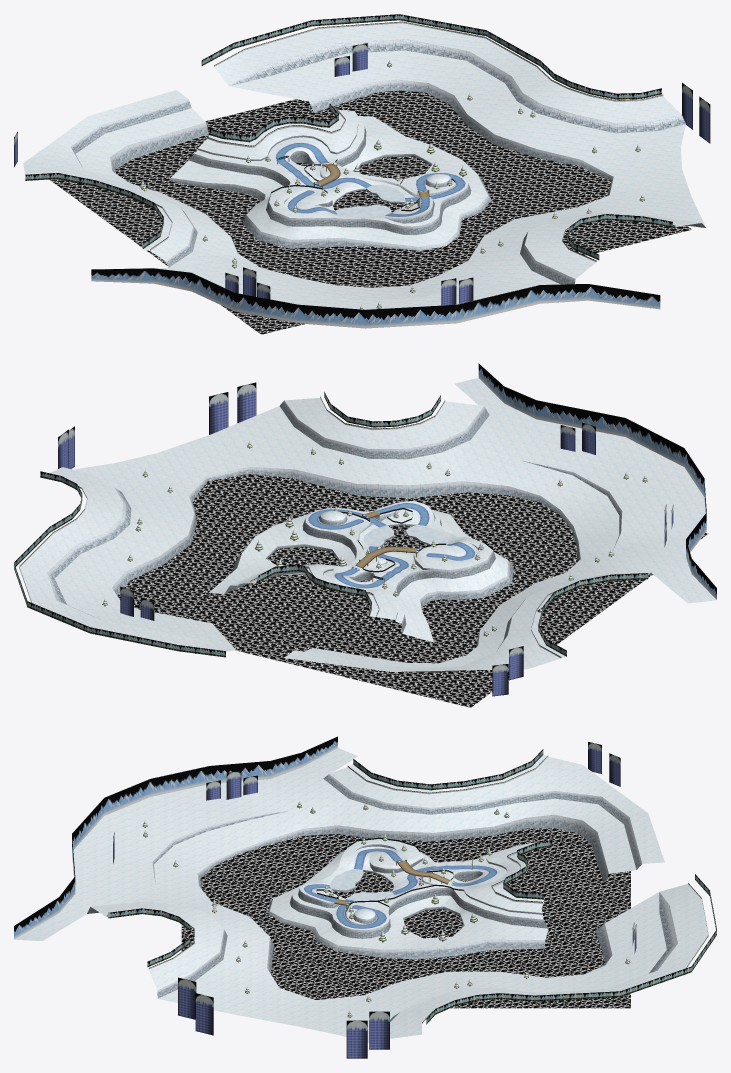
The picture shows the model from 3 angles, top to bottom: view 1: azimuth 30°, elevation 25°; view 2: azimuth 150°, elevation 25°; view 3: azimuth 270°, elevation 25°; orthographic projection. The views are drawn at different scales.
Visible parts, largest first — view 1: Snow.002, Water.011, Wall.005, Mountains.001, Trees.001, Hills.001, Road.015, Bushes.001, Tree.019, Ice.002; view 2: Snow.002, Water.011, Wall.005, Mountains.001, Trees.001, Hills.001, Road.015, Tree.019, Ice.002, Bushes.001, Bridge.006; view 3: Snow.002, Water.011, Wall.005, Mountains.001, Hills.001, Trees.001, Road.015, Tree.019, Bushes.001, Ice.002.
Boxes of the visible parts, x1,y1,x2,y2 form: Snow.002: (23, 23, 705, 309); Water.011: (49, 90, 691, 334); Wall.005: (71, 39, 705, 284); Mountains.001: (91, 268, 660, 328); Trees.001: (25, 14, 672, 260); Hills.001: (14, 43, 710, 305); Road.015: (275, 142, 465, 216); Bushes.001: (150, 21, 675, 261); Tree.019: (139, 60, 644, 309); Ice.002: (335, 185, 405, 217); Snow.002: (19, 377, 716, 671); Water.011: (117, 473, 708, 707); Wall.005: (47, 400, 653, 672); Mountains.001: (478, 363, 716, 599); Trees.001: (14, 392, 648, 657); Hills.001: (58, 382, 673, 696); Road.015: (307, 502, 475, 588); Tree.019: (102, 441, 647, 636); Ice.002: (363, 524, 448, 546); Bushes.001: (19, 396, 561, 657); Bridge.006: (352, 511, 419, 582); Snow.002: (14, 748, 708, 1042); Water.011: (181, 828, 630, 1008); Wall.005: (87, 774, 677, 1021); Mountains.001: (14, 736, 337, 939); Hills.001: (113, 742, 636, 1058); Trees.001: (108, 749, 716, 1024); Road.015: (303, 848, 497, 928); Tree.019: (142, 801, 630, 1018); Bushes.001: (106, 755, 708, 1023); Ice.002: (329, 869, 394, 901).
Size of the model in its own units: 251111 by 22981 by 254107.
Materials: 18 (18 with a texture image).
